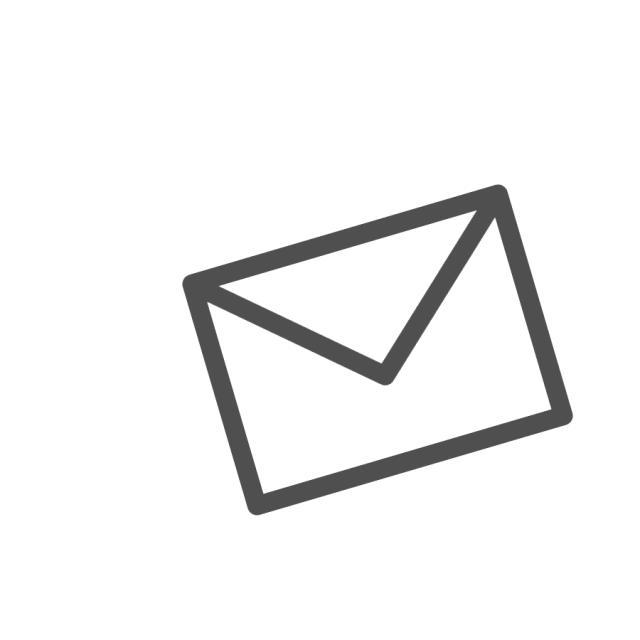letter: (178, 181, 576, 525)
